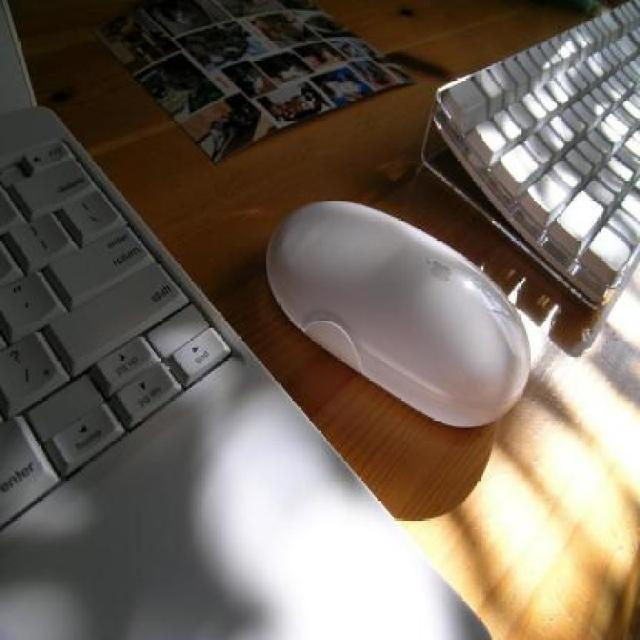mouse: (262, 195, 539, 429)
